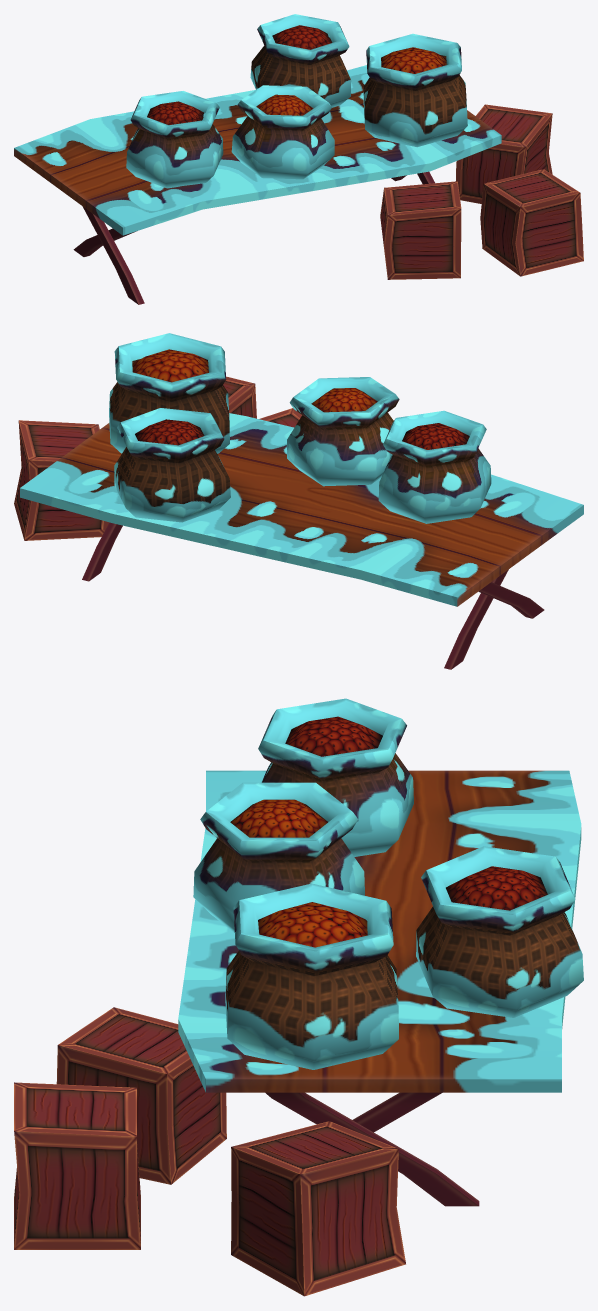
Rendered from MarketStall3.FBX.
The picture shows the model from 3 angles, top to bottom: view 1: azimuth 30°, elevation 25°; view 2: azimuth 150°, elevation 25°; view 3: azimuth 270°, elevation 25°; orthographic projection. The views are drawn at different scales.
Visible parts, largest first — view 1: MarketStall3; view 2: MarketStall3; view 3: MarketStall3.
Part boxes in pixels (x1=…): MarketStall3: x1=14, y1=14, x2=583, y2=304; MarketStall3: x1=14, y1=333, x2=583, y2=669; MarketStall3: x1=14, y1=698, x2=583, y2=1296.
Bounding box in the file's own units: 138 × 46.5 × 88.72.
Materials: 1 (1 with a texture image).
